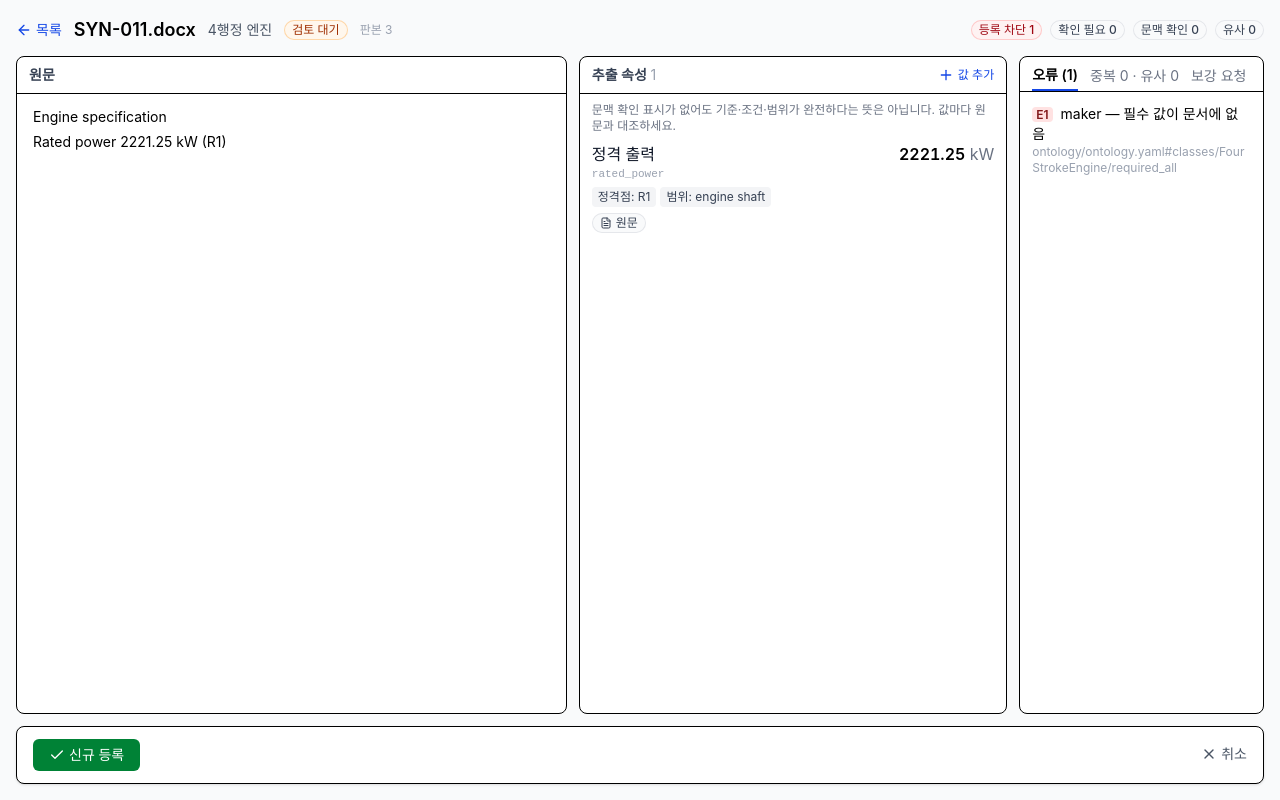
Test case: ReviewPage › shows the server's refusal instead of failing silently
Click the button "신규 등록". click: coordinates (87, 755)
box: [33,739,140,771]
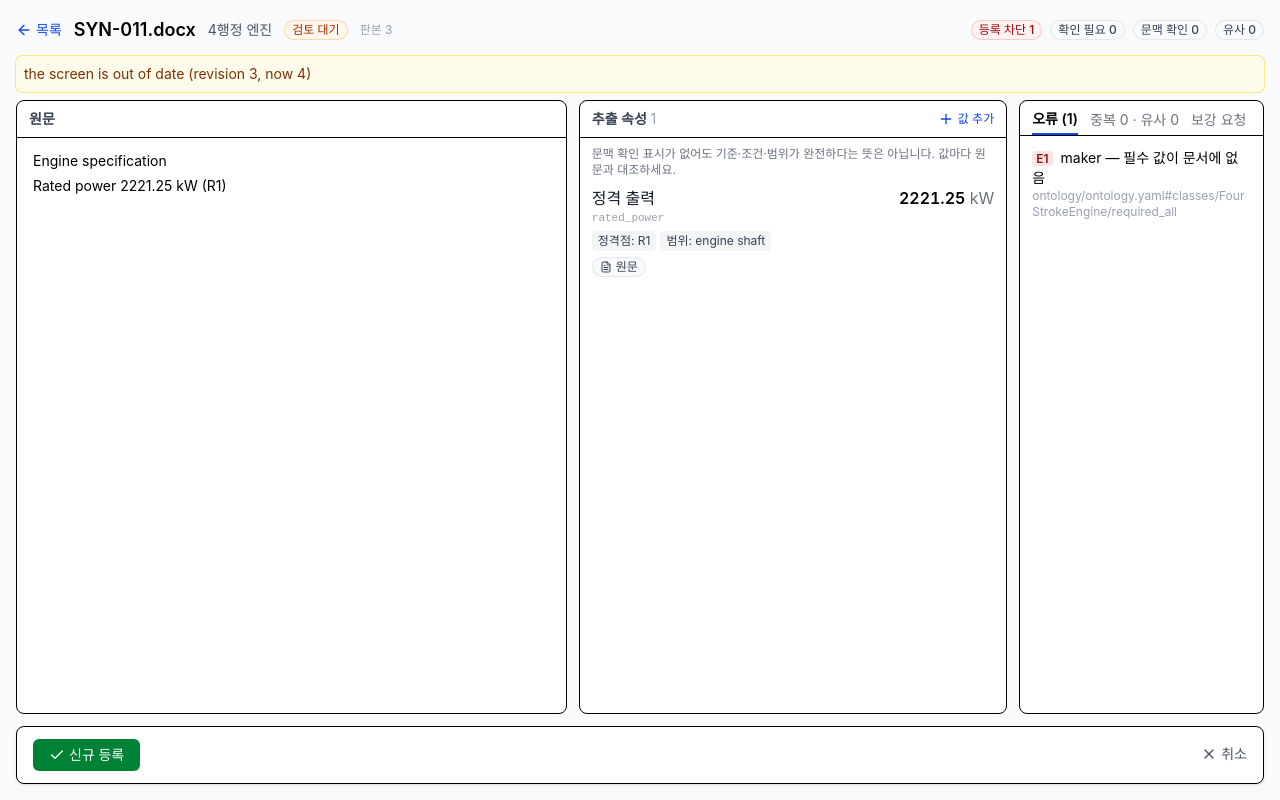
expect the message shows "out of date": met, box [24,65,311,82]
